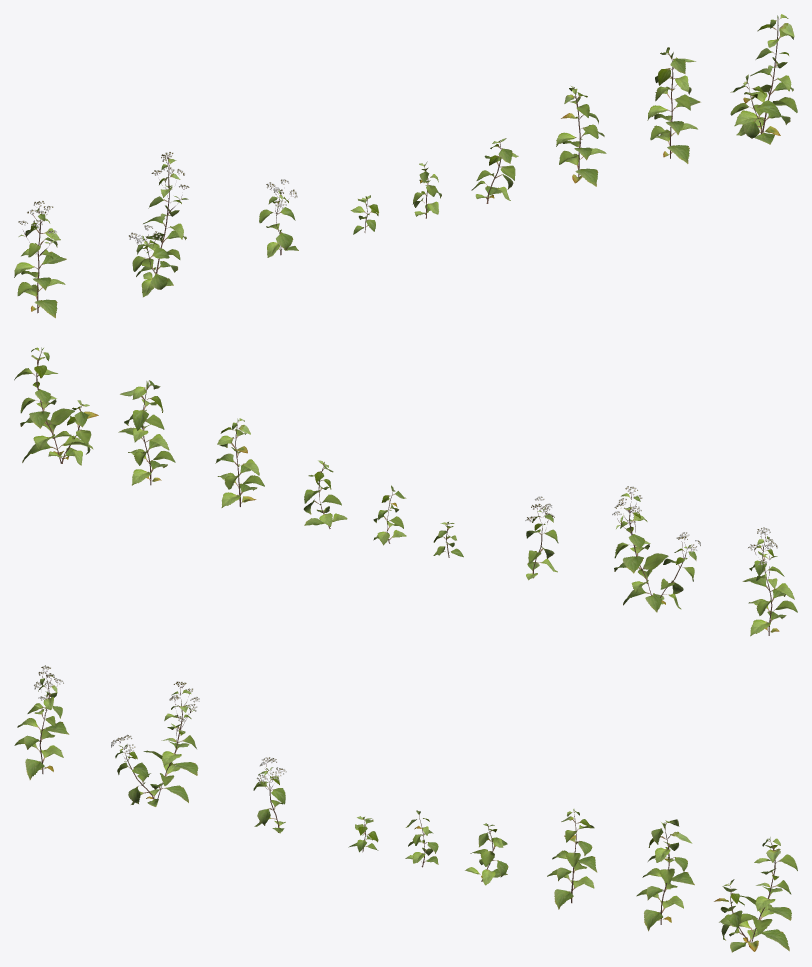
The model's file is shrub_01.glb.
3 renders of one model, top to bottom at view 1: azimuth 30°, elevation 25°; view 2: azimuth 150°, elevation 25°; view 3: azimuth 330°, elevation 25°, orthographic. The views are drawn at different scales.
Parts seen in each view (by area): view 1: shrub_01_a; view 2: shrub_01_a; view 3: shrub_01_a.
Boxes of the visible parts, bbox=[...] form: shrub_01_a: bbox=[14, 14, 797, 318]; shrub_01_a: bbox=[14, 347, 797, 636]; shrub_01_a: bbox=[14, 665, 797, 952].
Size of the model in its own units: 2.59 by 0.3955 by 0.2182.
Materials: 1 (1 with a texture image).
